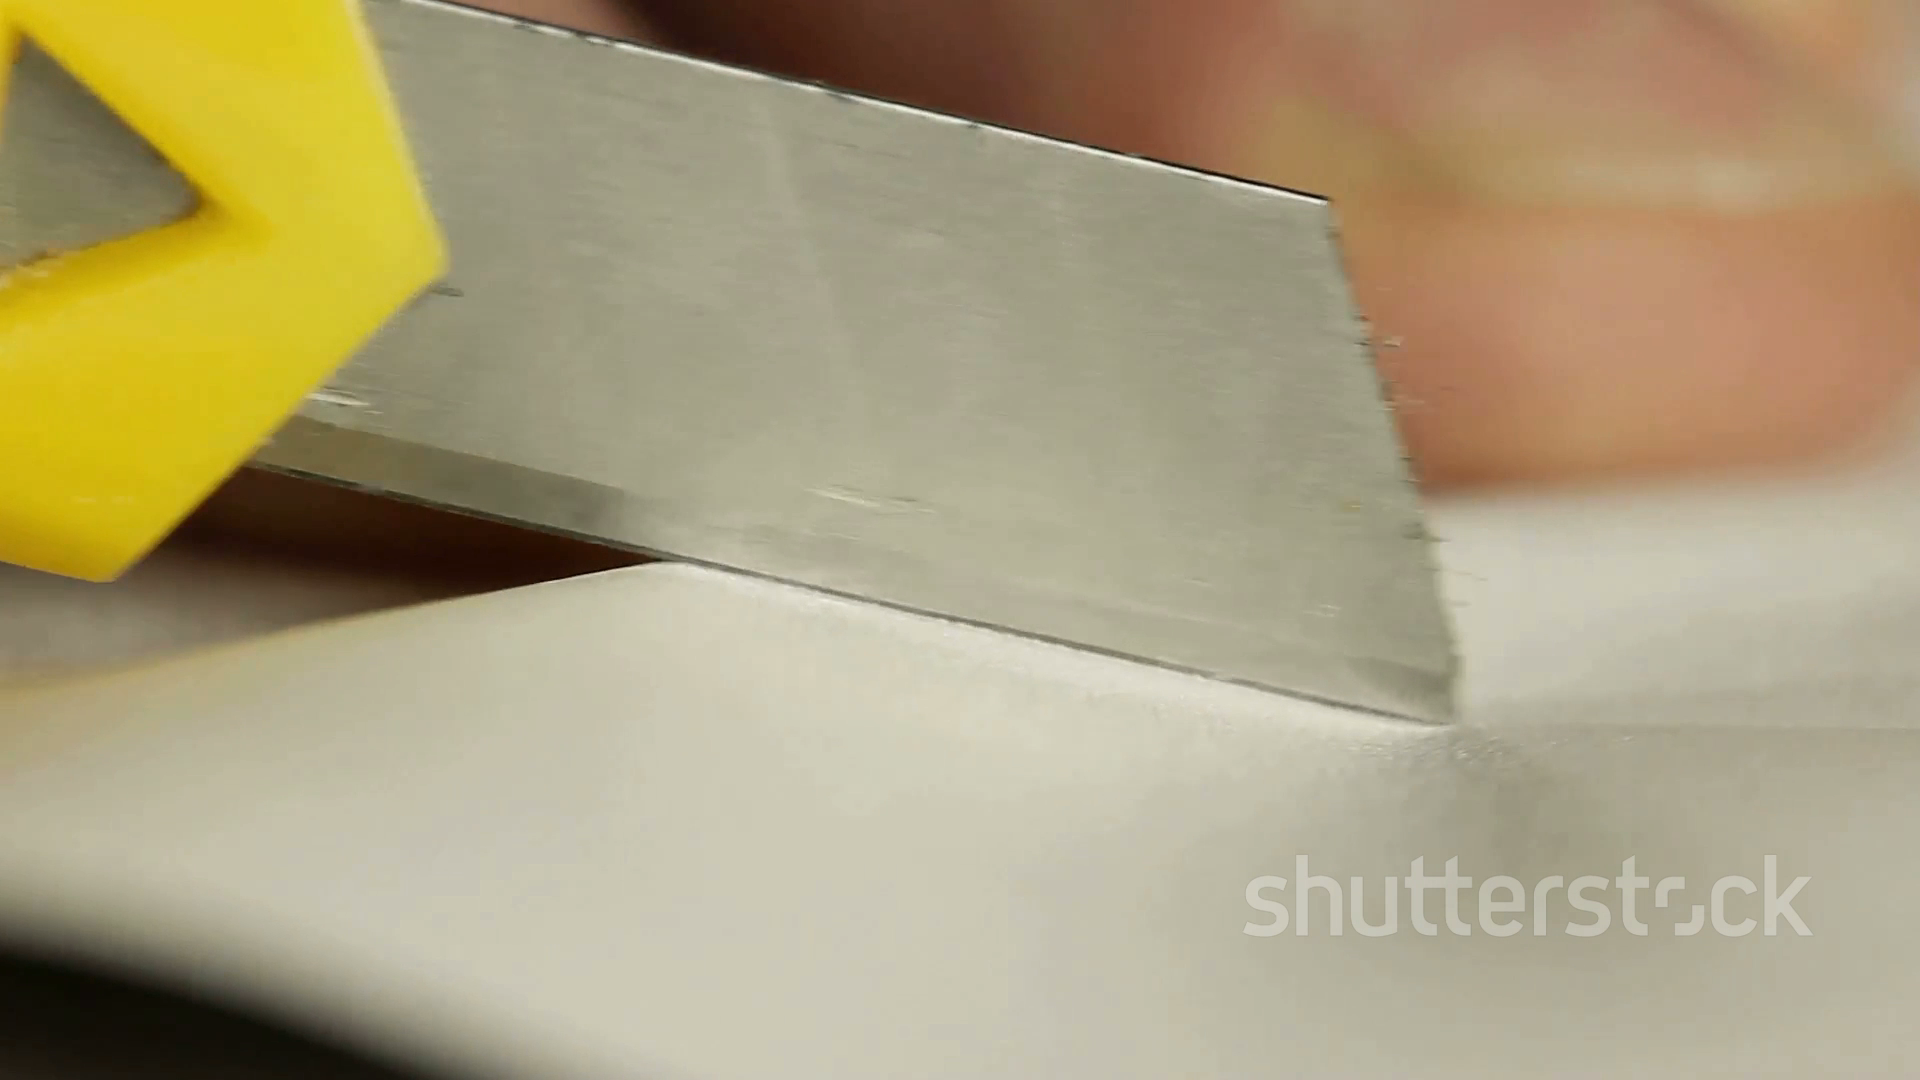cortante: (247, 0, 1448, 725)
